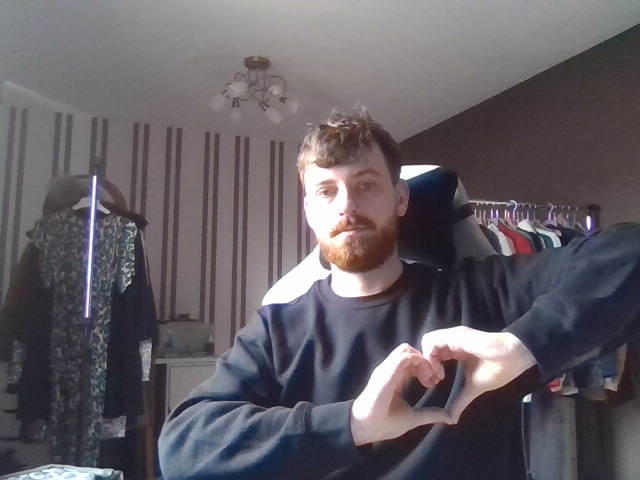Love: (348, 318, 541, 450)
